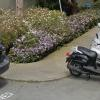Motorcycle: (60, 41, 100, 90)
